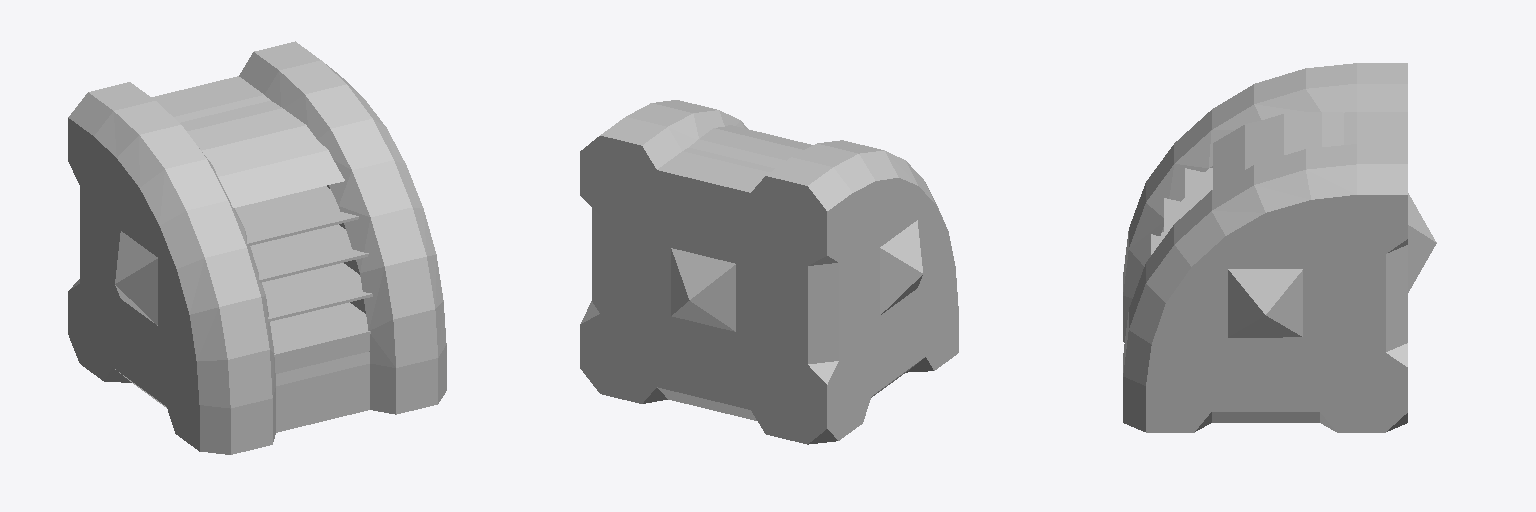
File: Venture_Curved_Intake.obj
3 renders of one model, left to right at view 1: azimuth 30°, elevation 25°; view 2: azimuth 150°, elevation 25°; view 3: azimuth 270°, elevation 25°, orthographic.
Parts seen in each view (by area): view 1: m_VEN_Block_112; view 2: m_VEN_Block_112; view 3: m_VEN_Block_112.
Boxes of the visible parts, x1,y1,x2,y2 form: m_VEN_Block_112: [68, 41, 446, 454]; m_VEN_Block_112: [580, 100, 958, 444]; m_VEN_Block_112: [1123, 63, 1436, 432].
Bounding box in the file's own units: 1.2 × 1.1 × 1.1.